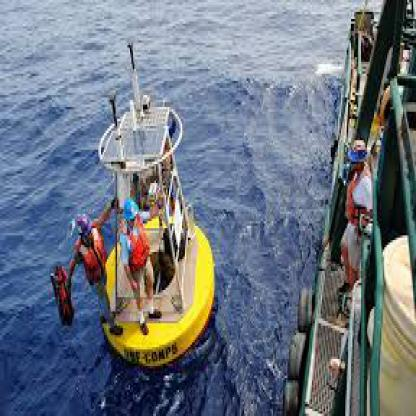buoy: (90, 36, 221, 373)
